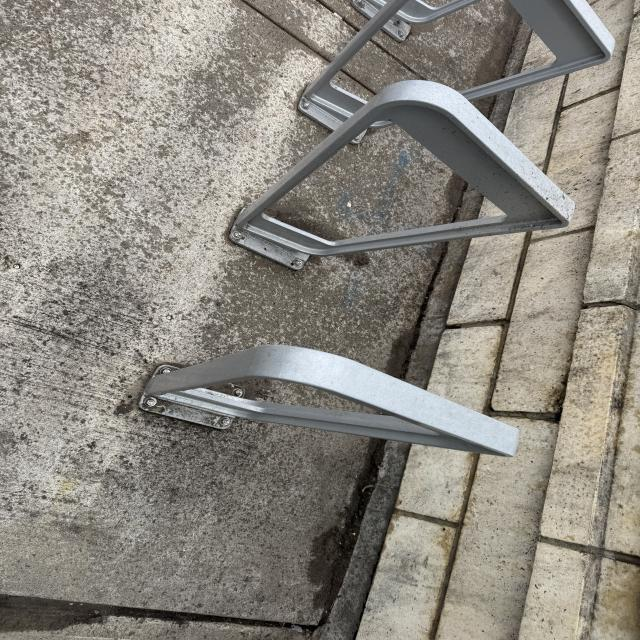Bicycle Rack: (233, 81, 572, 268), (147, 345, 517, 458), (296, 0, 616, 109)
